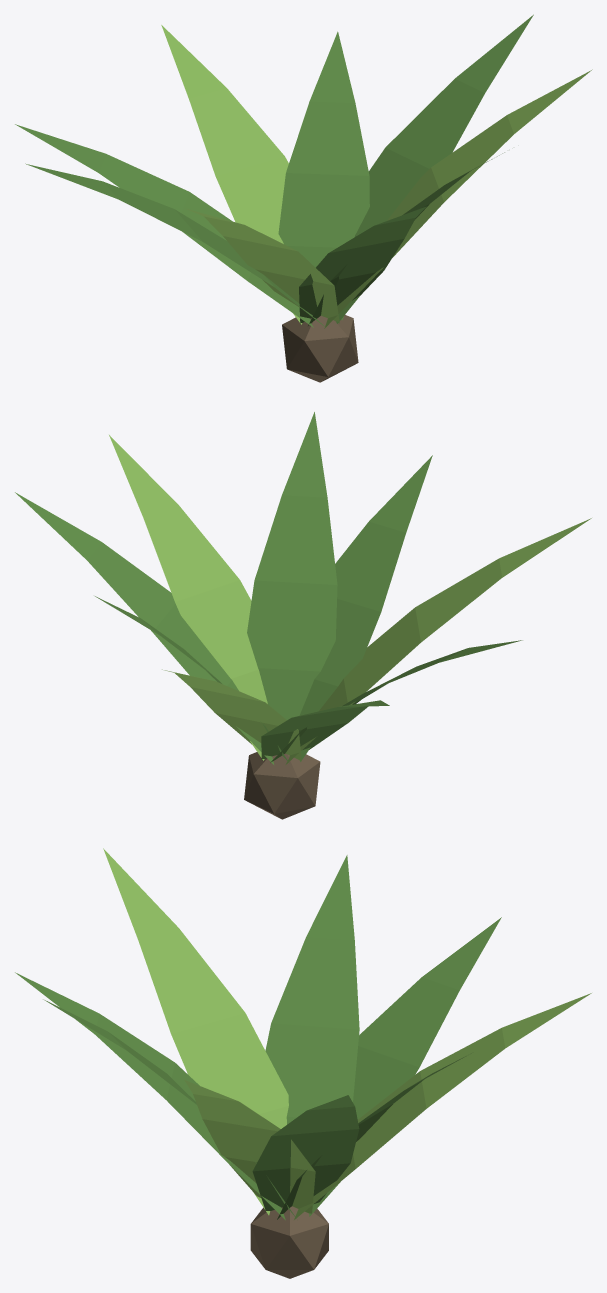
File: jungle_fern.glb
3 views of the same model, one above another, from view 1: azimuth 30°, elevation 25°; view 2: azimuth 150°, elevation 25°; view 3: azimuth 270°, elevation 25° (orthographic). The views are drawn at different scales.
Parts seen in each view (by area): view 1: jungle_fern; view 2: jungle_fern; view 3: jungle_fern.
Part boxes in pixels (x1,y1,x2,y2): jungle_fern: (15, 14, 592, 382); jungle_fern: (15, 412, 591, 819); jungle_fern: (15, 848, 591, 1278).
Size of the model in its own units: 3.01 by 1.71 by 2.76.
